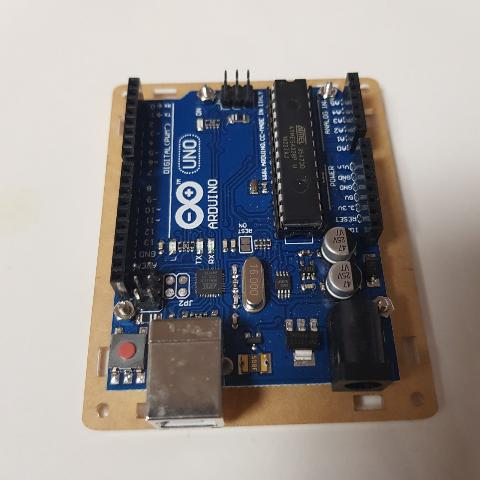Arduino-Uno: (104, 66, 406, 431)
